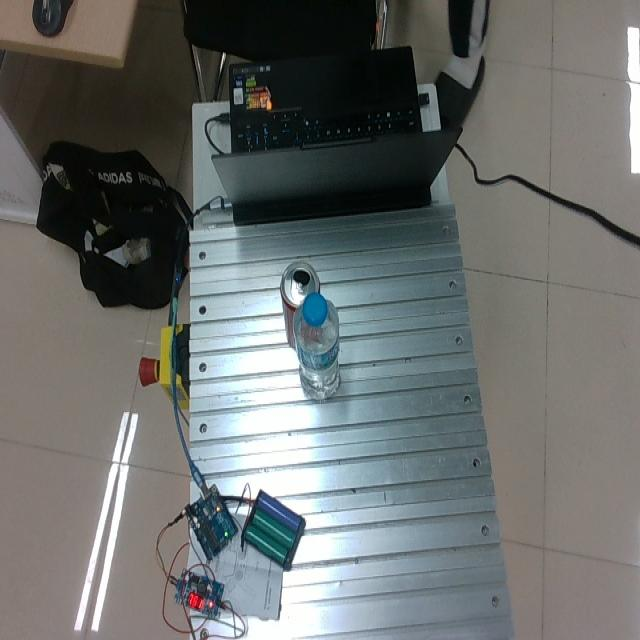coca: (279, 259, 320, 352)
lavie: (292, 291, 341, 400)
